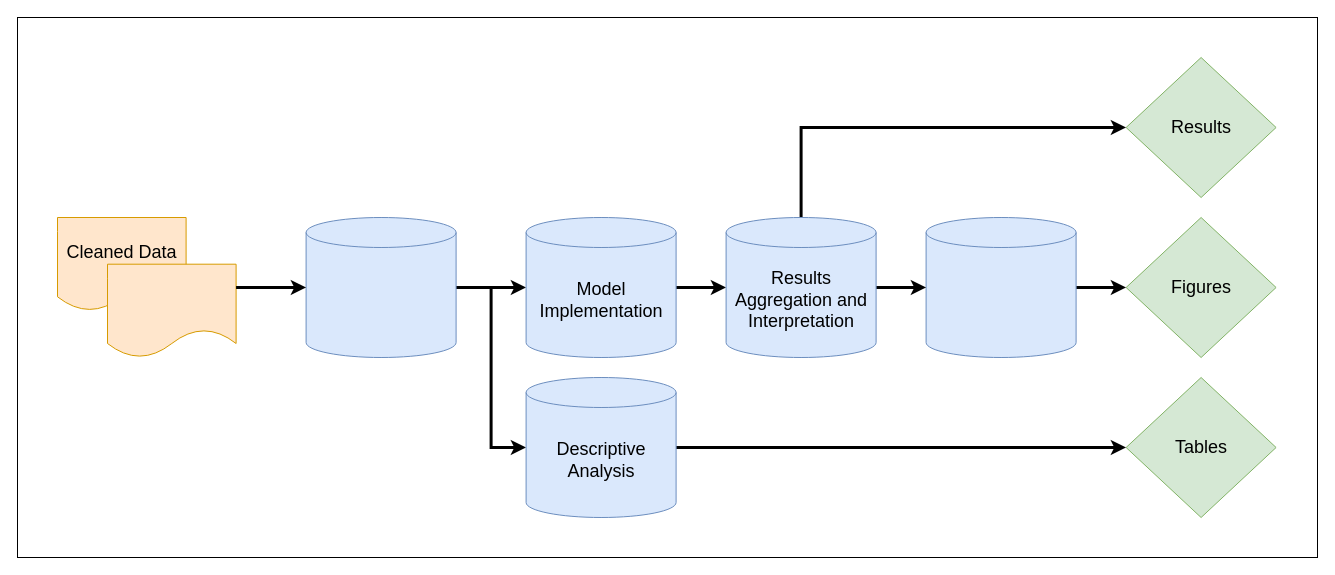
This 1335x575 diagram has some shape labels left out. Here are the shapes that lost their labels. From the top down, the centre of each, then its label:
At point (380, 287): "Data Manipulation".
At point (1000, 287): "Figure Creation".
At point (171, 310): "Parameters".
